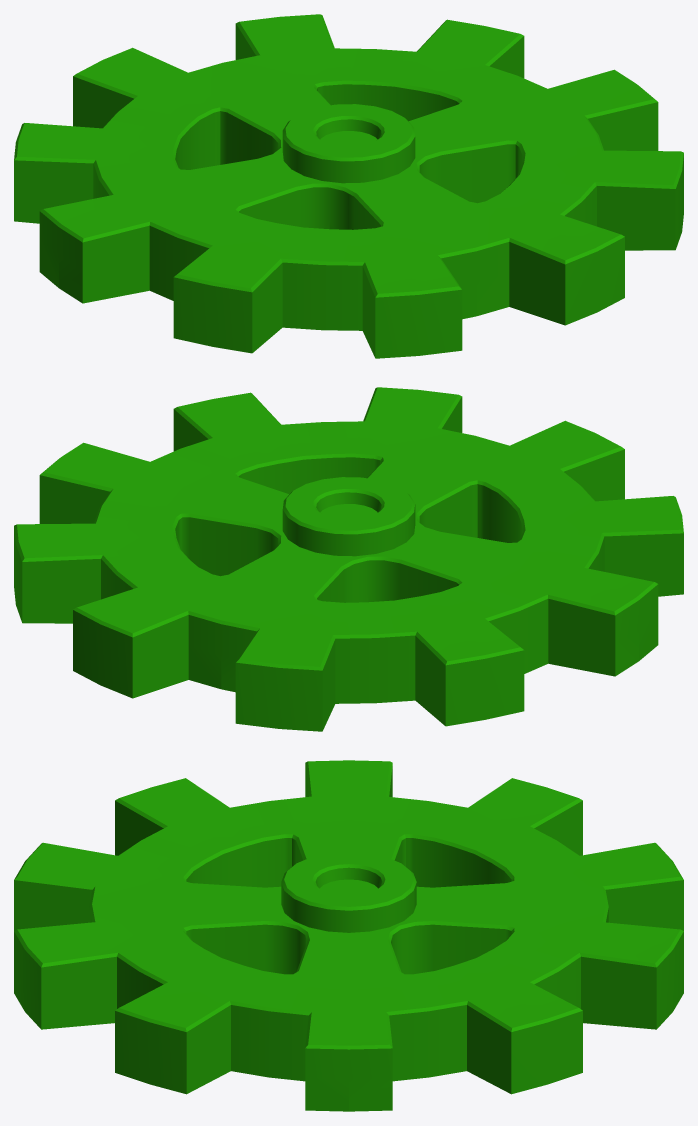
The model's file is geo_gear_normal_style.fbx.
3 renders of one model, top to bottom at view 1: azimuth 30°, elevation 25°; view 2: azimuth 150°, elevation 25°; view 3: azimuth 270°, elevation 25°, orthographic.
Visible parts, largest first — view 1: geo_gear_normal_style; view 2: geo_gear_normal_style; view 3: geo_gear_normal_style.
Part boxes in pixels (bbox=[...]): geo_gear_normal_style: bbox=[14, 14, 683, 358]; geo_gear_normal_style: bbox=[14, 387, 683, 731]; geo_gear_normal_style: bbox=[14, 760, 683, 1111].
Bounding box in the file's own units: 2.99 × 0.4529 × 2.94.
